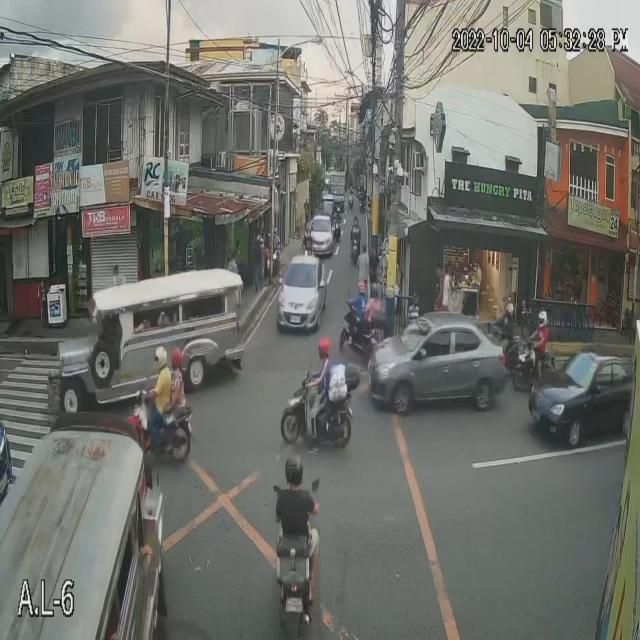full: (282, 453, 304, 485), (152, 344, 169, 372), (537, 312, 549, 331)
half: (170, 347, 182, 370), (317, 336, 330, 357)
